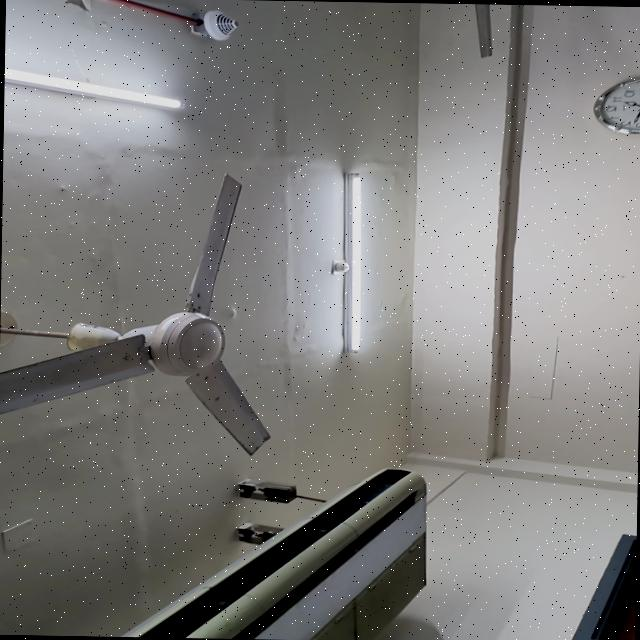Ac: (118, 466, 425, 640)
Light: (4, 66, 183, 108), (342, 172, 361, 351)
